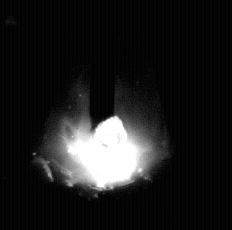arame: (91, 0, 115, 131)
poca: (43, 0, 173, 230)
